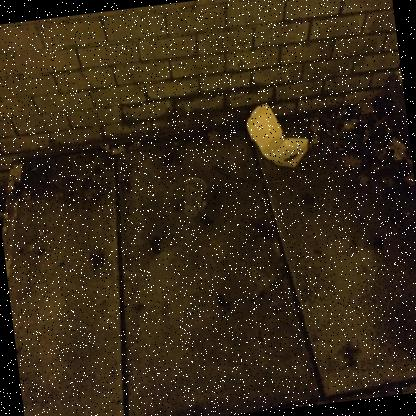Disposable plastic cup: (184, 177, 206, 216)
Foam food container: (246, 104, 308, 167)
